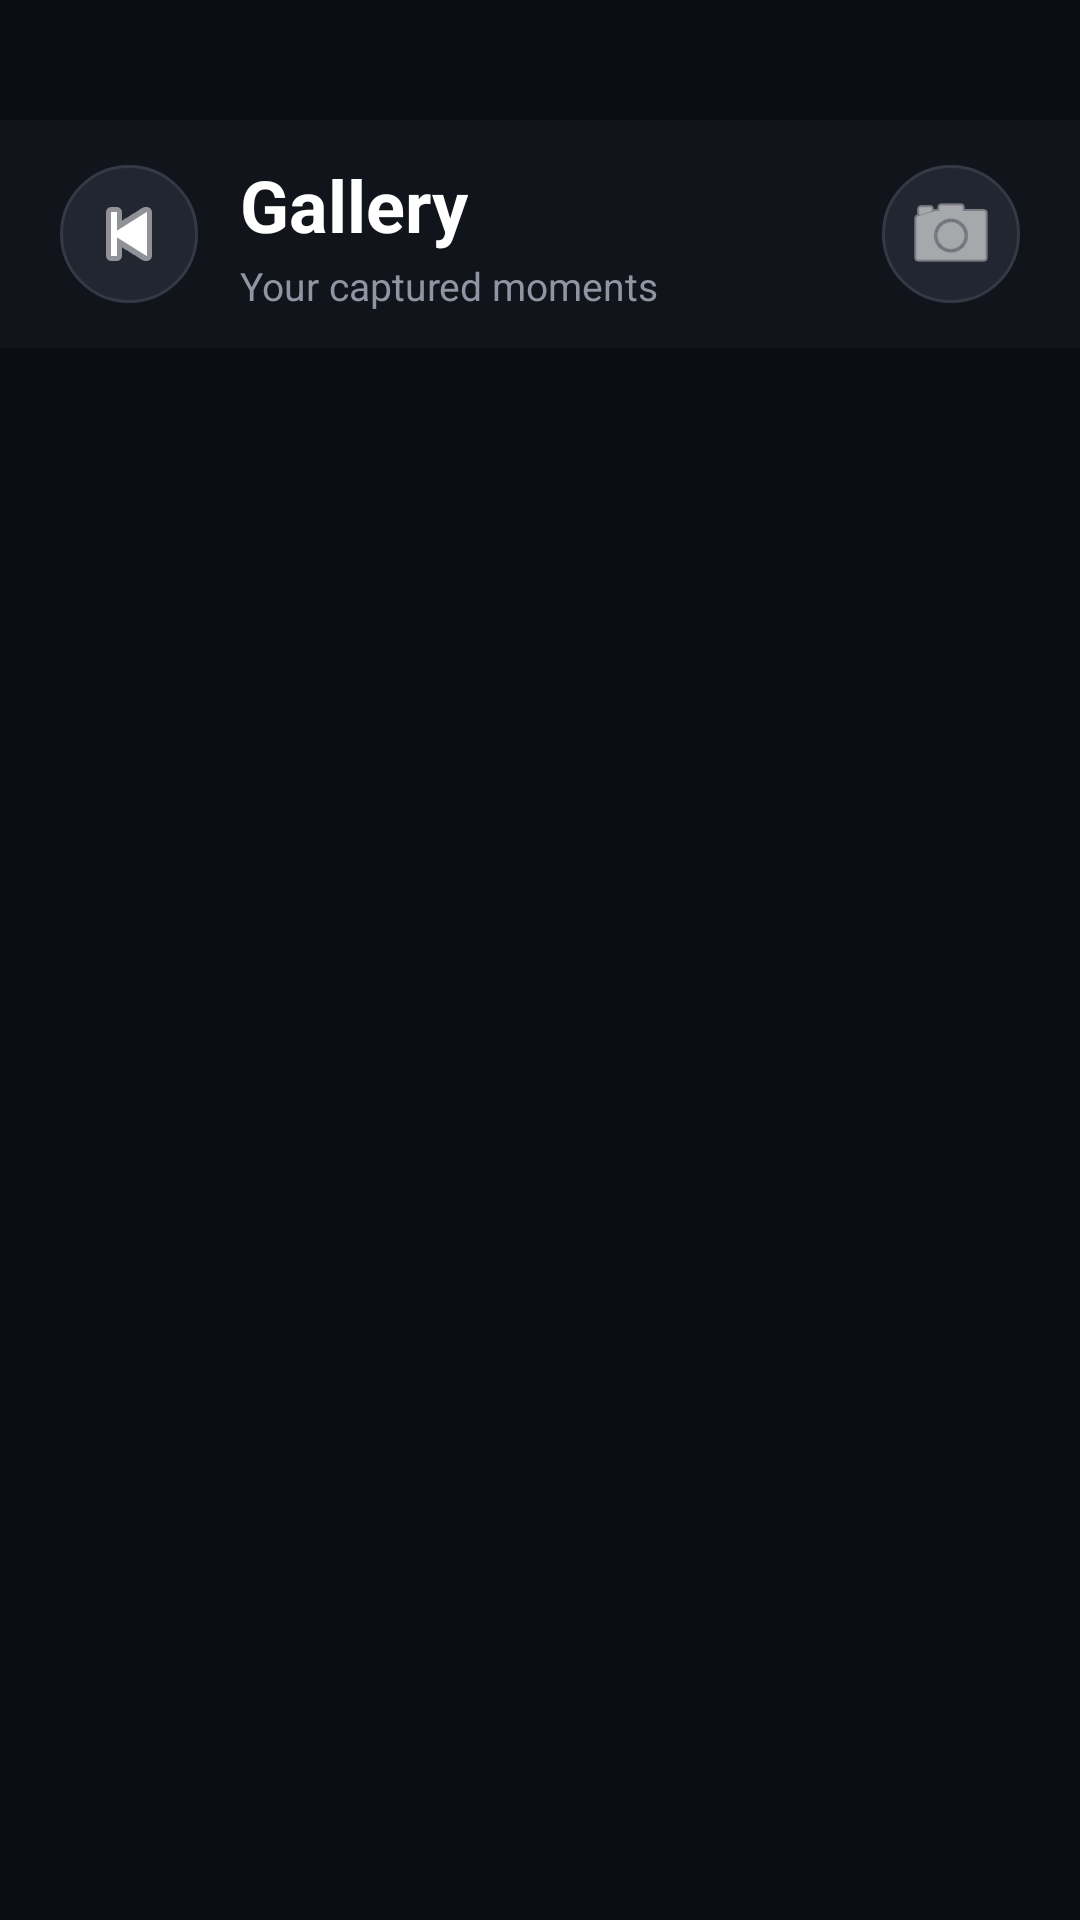

Locate icon controls on the screen. Image size 1080px×1920px, boxes as (x1, y1, x2, y2).
Back: (60, 165, 198, 303)
Camera: (882, 165, 1020, 303)
